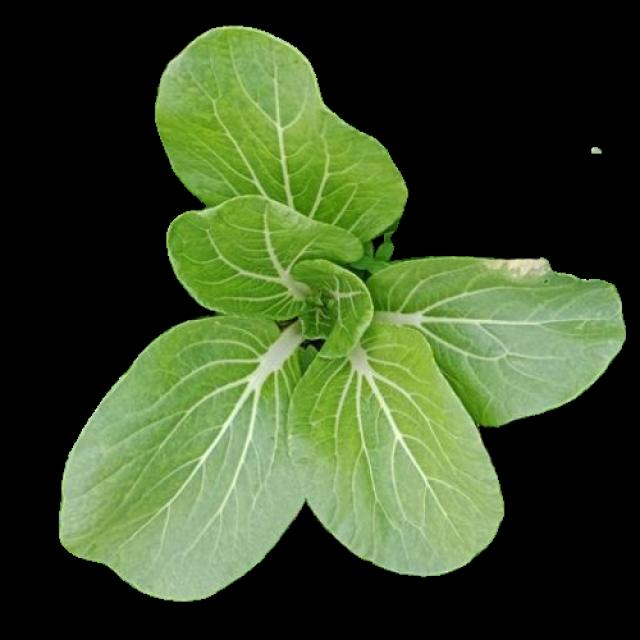mature: (64, 28, 622, 604)
unhealthy: (369, 255, 626, 426)
